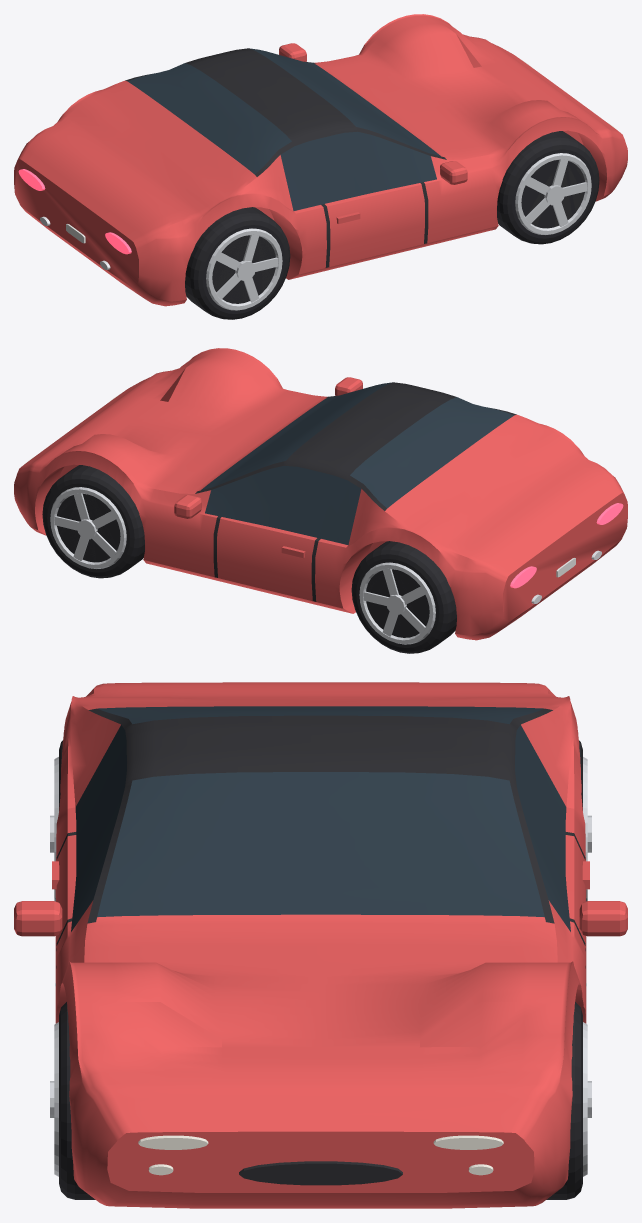
The model's file is mazta_miyata.fbx.
3 renders of one model, top to bottom at view 1: azimuth 30°, elevation 25°; view 2: azimuth 150°, elevation 25°; view 3: azimuth 270°, elevation 25°, orthographic. The views are drawn at different scales.
Parts seen in each view (by area): view 1: Body.025, Glass.025, Tire.025, Trim.025, Rim.025, TailLight.025; view 2: Body.025, Glass.025, Tire.025, Trim.025, Rim.025, TailLight.025; view 3: Body.025, Glass.025, Trim.025, Tire.025, Rim.025, HeadLight.025.
Boxes of the visible parts, <box> form: Body.025: <box>14,14,627,306</box>; Glass.025: <box>128,48,440,210</box>; Tire.025: <box>185,131,599,319</box>; Trim.025: <box>125,48,584,303</box>; Rim.025: <box>206,153,591,310</box>; TailLight.025: <box>18,169,131,254</box>; Body.025: <box>14,348,627,640</box>; Glass.025: <box>201,382,513,544</box>; Tire.025: <box>42,465,456,653</box>; Trim.025: <box>57,382,516,637</box>; Rim.025: <box>50,487,435,644</box>; TailLight.025: <box>510,503,623,588</box>; Body.025: <box>14,682,627,1208</box>; Glass.025: <box>71,706,570,931</box>; Trim.025: <box>55,708,586,1185</box>; Tire.025: <box>59,740,582,1199</box>; Rim.025: <box>50,757,591,1176</box>; HeadLight.025: <box>138,1135,503,1175</box>.
Bounding box in the file's own units: 1254 × 372 × 764.
